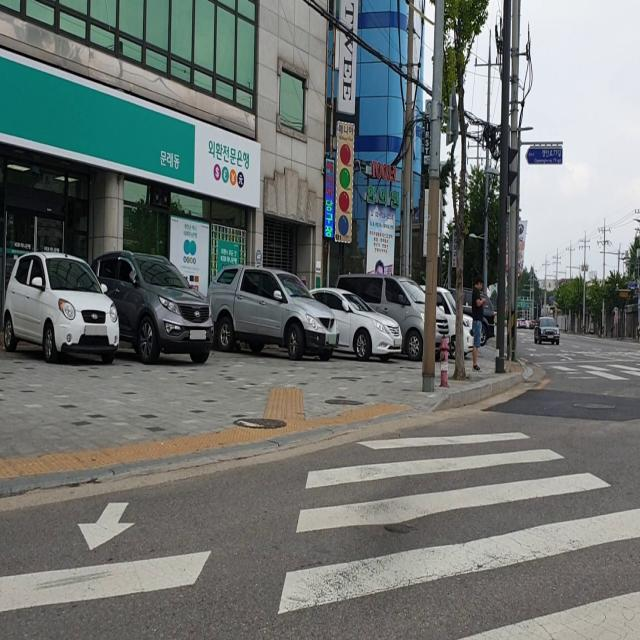횡단보도: (0, 425, 640, 640), (540, 358, 640, 381)
